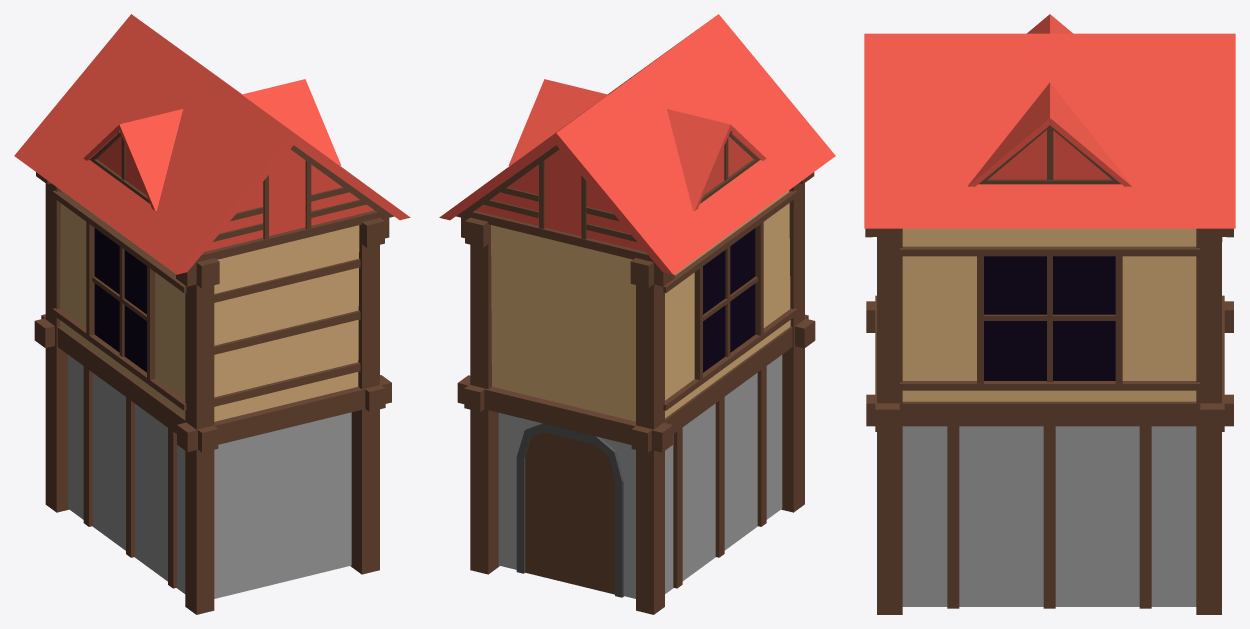
Rendered from House_small_v2.fbx.
The picture shows the model from 3 angles, left to right: view 1: azimuth 30°, elevation 25°; view 2: azimuth 150°, elevation 25°; view 3: azimuth 270°, elevation 25°; orthographic projection. The views are drawn at different scales.
Parts seen in each view (by area): view 1: House_small_v2; view 2: House_small_v2; view 3: House_small_v2.
Boxes of the visible parts, <box> form: House_small_v2: <box>14,14,410,614</box>; House_small_v2: <box>439,14,835,614</box>; House_small_v2: <box>864,14,1235,614</box>.
Bounding box in the file's own units: 21.27 × 40.24 × 25.54.
